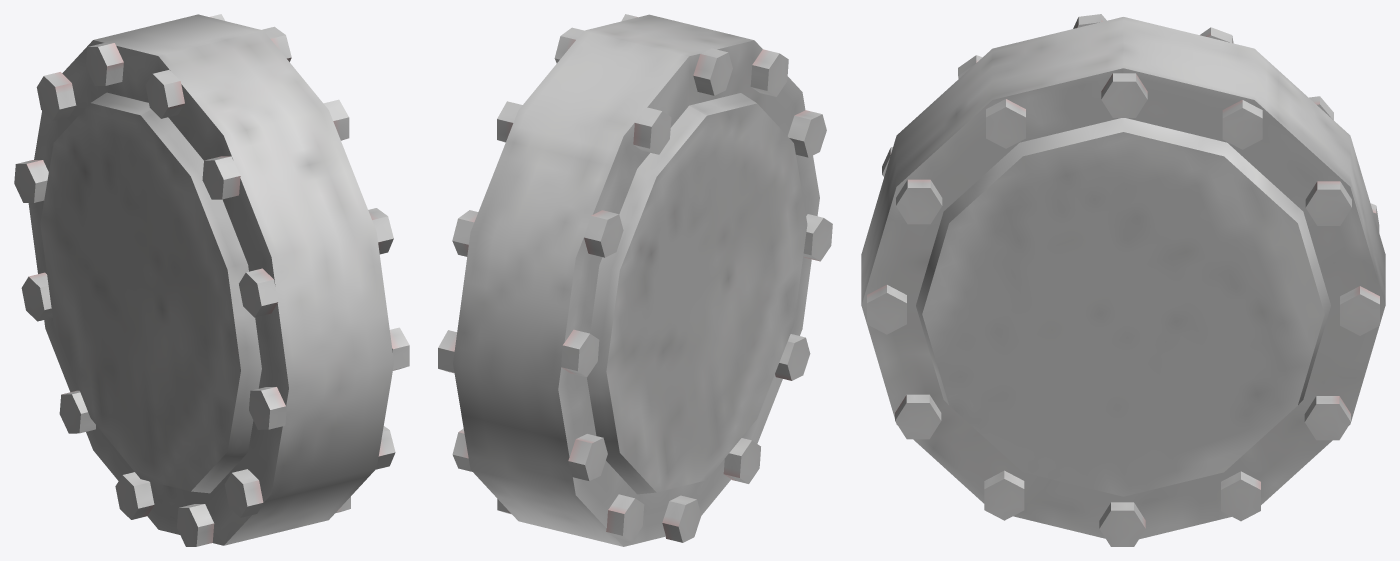
File: SM_HeaterTubes4.fbx
3 views of the same model, side by side, from view 1: azimuth 30°, elevation 25°; view 2: azimuth 150°, elevation 25°; view 3: azimuth 270°, elevation 25° (orthographic).
Visible parts, largest first — view 1: SM_HeaterTubes4_LOD0; view 2: SM_HeaterTubes4_LOD0; view 3: SM_HeaterTubes4_LOD0.
Boxes of the visible parts, <box> form: SM_HeaterTubes4_LOD0: <box>14,14,409,546</box>; SM_HeaterTubes4_LOD0: <box>438,14,832,546</box>; SM_HeaterTubes4_LOD0: <box>861,14,1385,546</box>.
Size of the model in its own units: 5.36 by 17.21 by 17.21.
